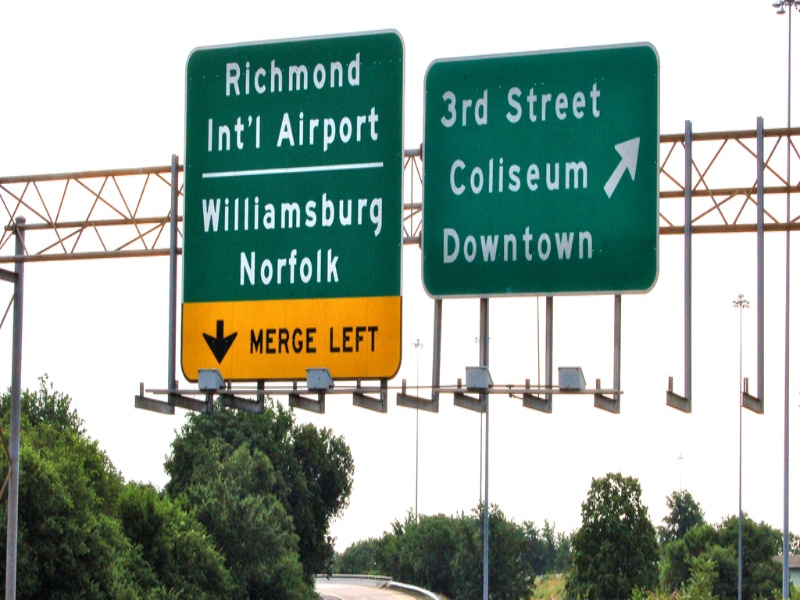right_direction: (601, 136, 645, 202)
